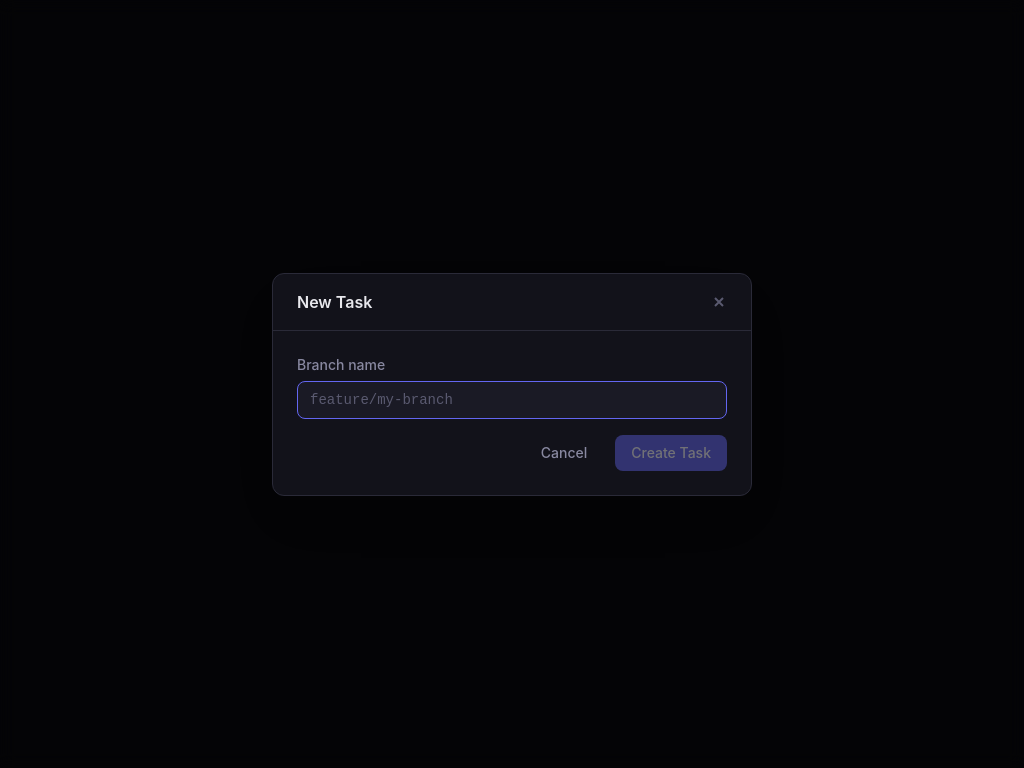
Test: shows completed and failed destinations for partial creation
Type "feature" into the field labelled "Branch name" at [512, 400], box [297,380,727,418]
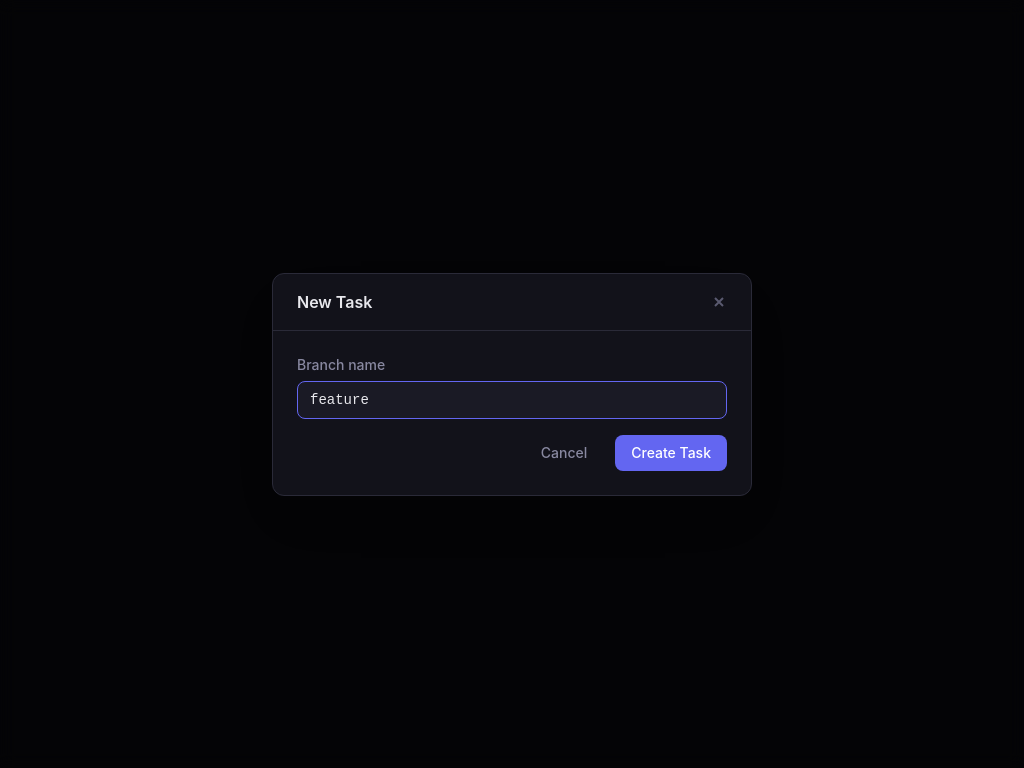
Click the button "Create Task" at [671, 452], box [615,434,727,470]
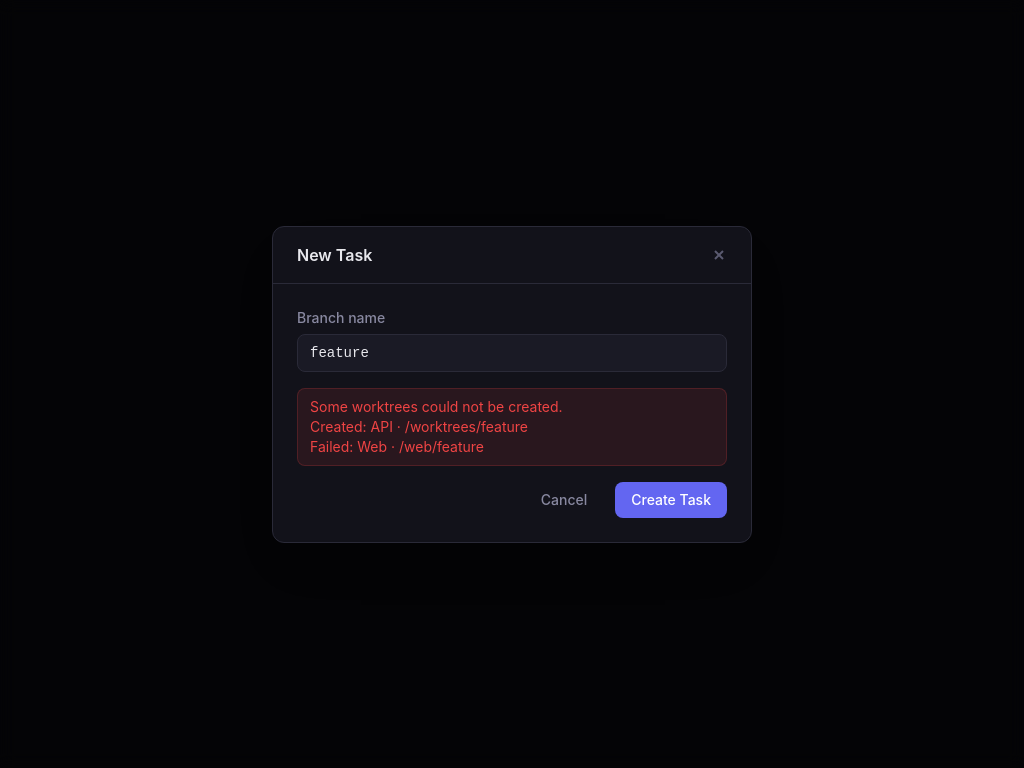
expect the text "Created: API" shows "Failed: Web · /web/feature": met, box [310,398,563,454]
